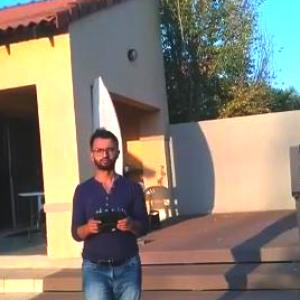follow: (70, 122, 156, 299)
